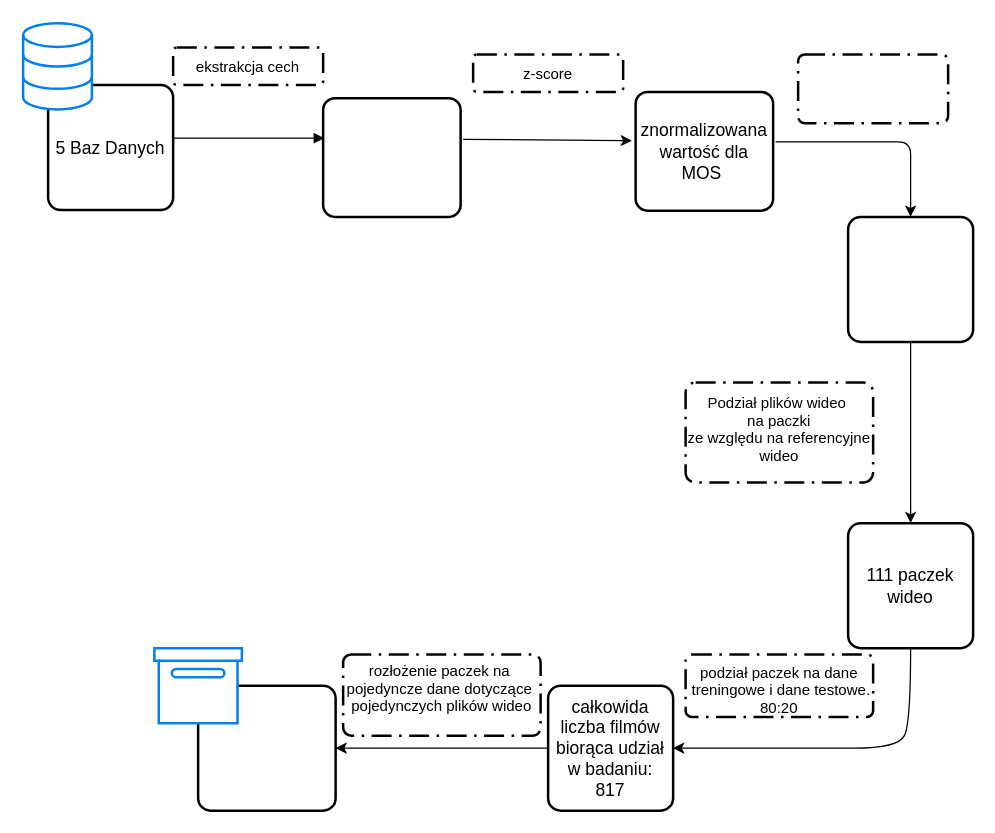
The diagram is 995 pixels wide and 833 high, and some of its shapes have lost their labels. Each missing label, with the box of its shape:
Częściowo oczyszcone dane: (846, 215, 974, 342)
dane w postaci pliku csv z cehcmi wideo: (321, 96, 461, 218)
gotowe dane: (196, 684, 336, 811)
Usunięcie niepełnych wierszy: (796, 52, 949, 124)
